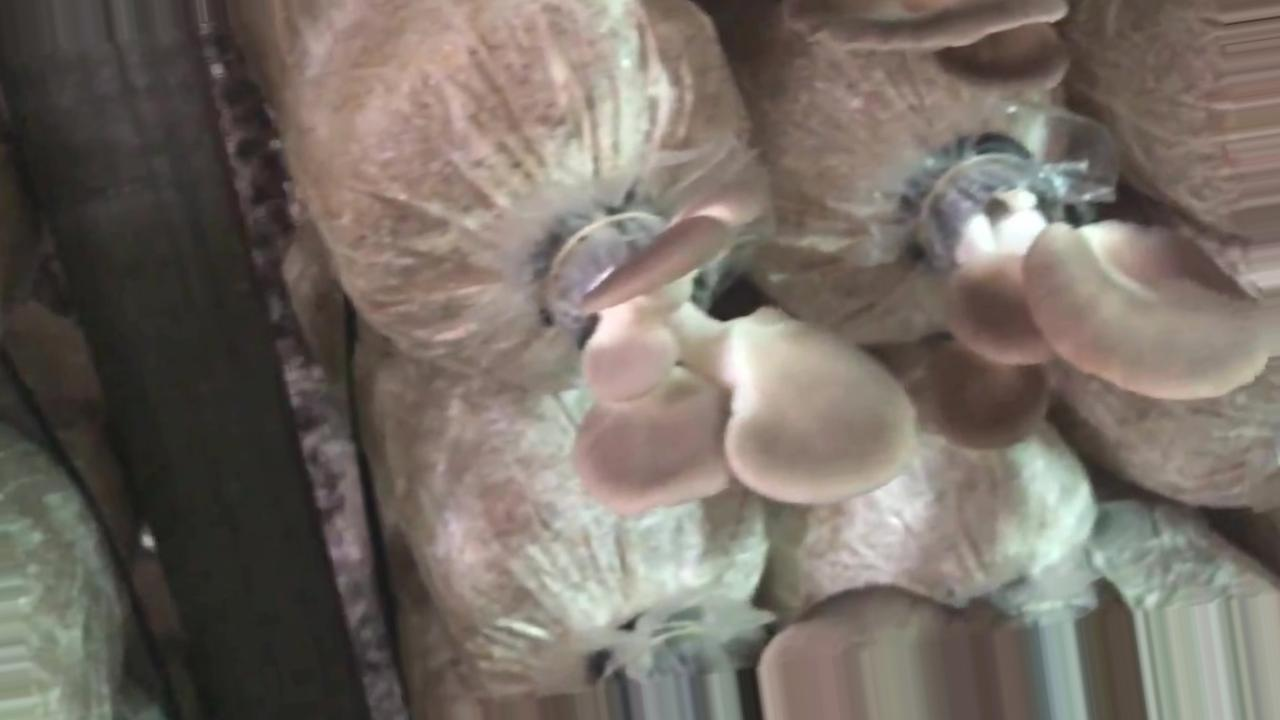nam: (573, 199, 916, 517), (924, 150, 1266, 460)
